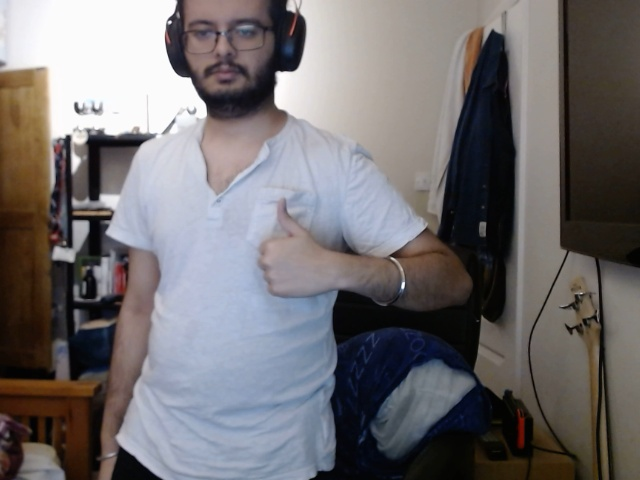Thumbs up: (253, 187, 353, 312)
